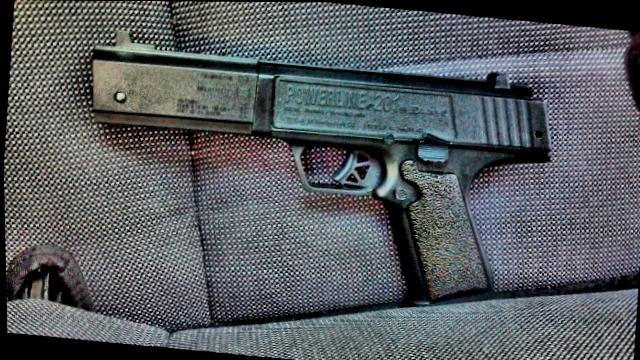pistol: (74, 24, 560, 317)
